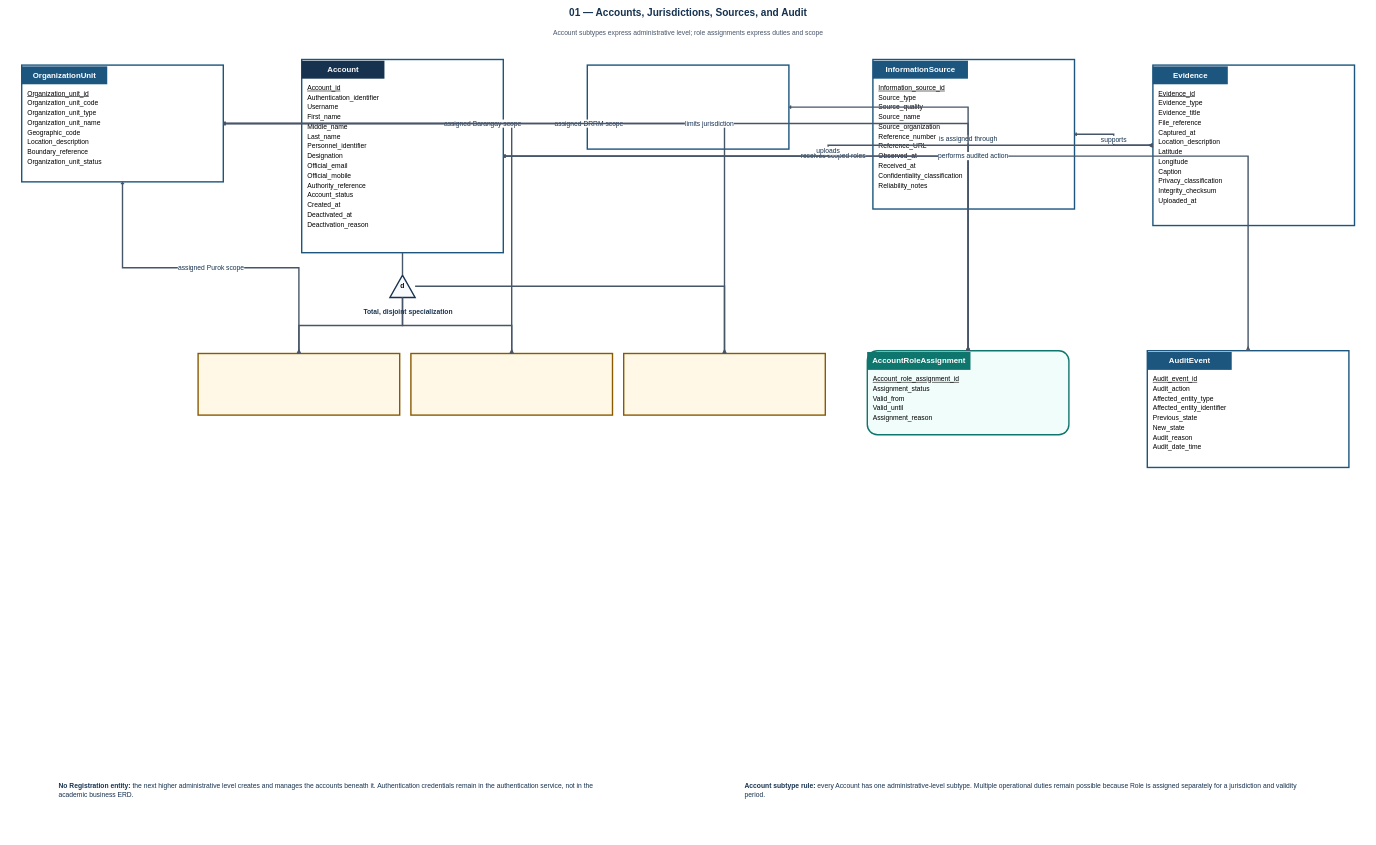
The diagram is 1376 pixels wide and 845 high, and some of its shapes have lost their labels. Each missing label, with the box of its shape:
BarangayAccount Barangay_account_id Account_level_status: (410, 353, 613, 416)
DRRMAccount DRRM_account_id Account_level_status: (623, 353, 826, 416)
PurokAccount Purok_account_id Account_level_status: (197, 353, 400, 416)
Role Role_id Role_code Role_name Role_description Role_status: (586, 64, 789, 150)
